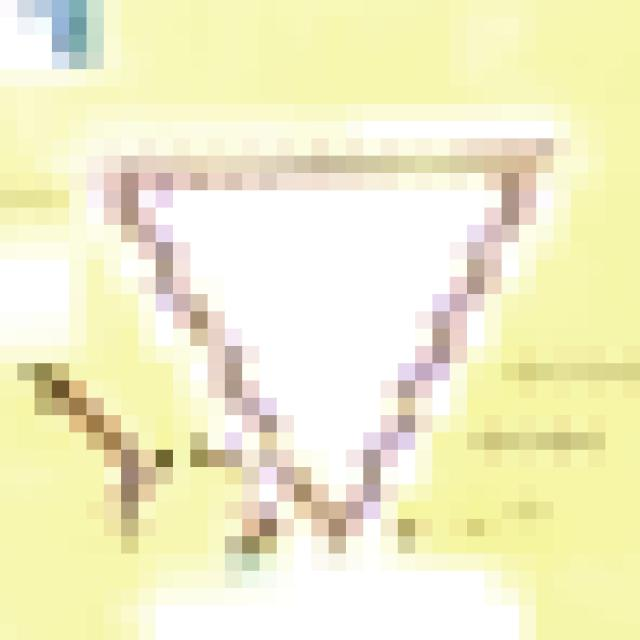Give Way: (88, 88, 555, 555)
